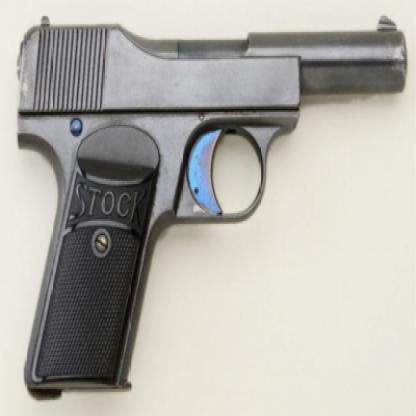Guns: (10, 8, 415, 400)
